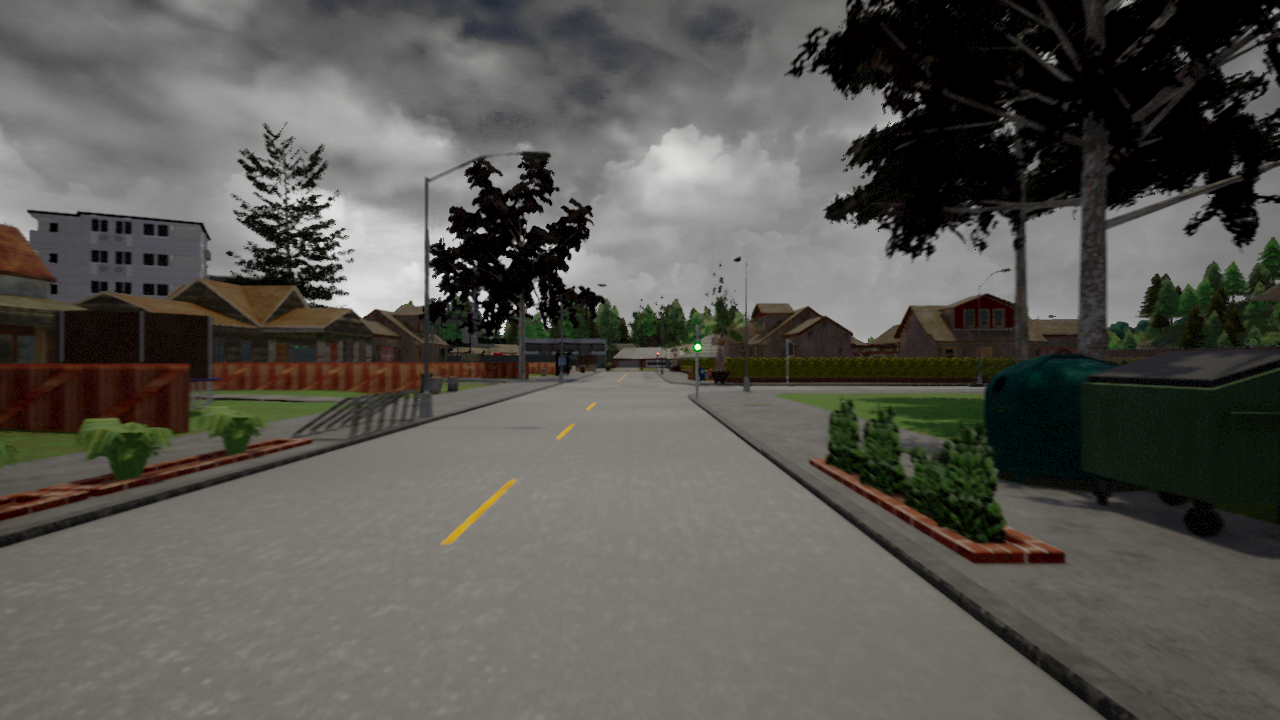green: (693, 327, 702, 352)
